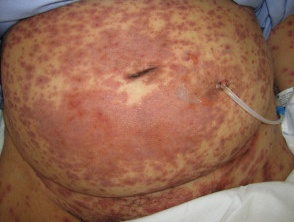SJS-TEN: (2, 0, 272, 217)
